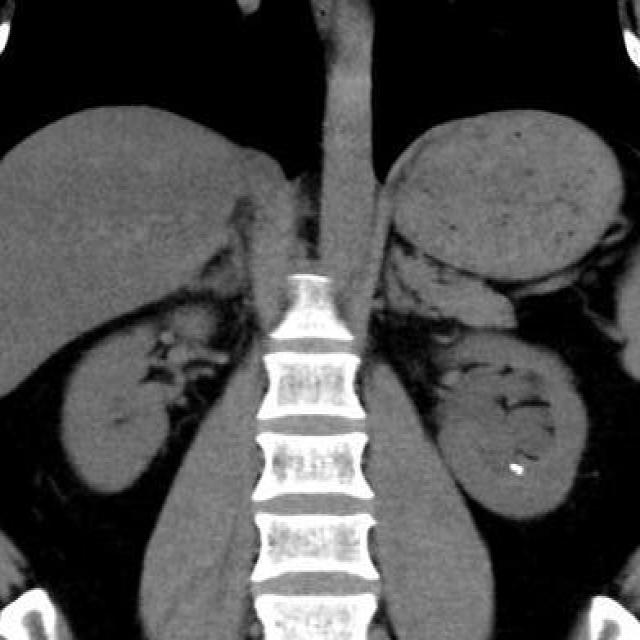Tas_Var: (509, 461, 519, 471), (516, 464, 524, 474)
